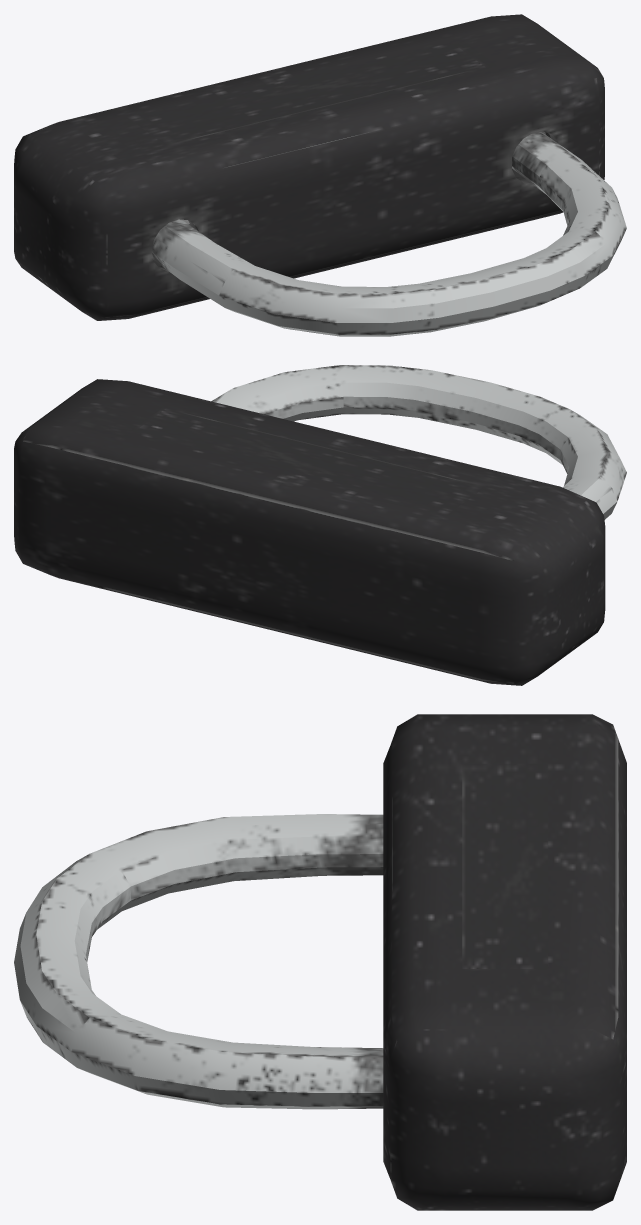
The model's file is WheelLock.fbx.
3 views of the same model, one above another, from view 1: azimuth 30°, elevation 25°; view 2: azimuth 150°, elevation 25°; view 3: azimuth 270°, elevation 25° (orthographic). The views are drawn at different scales.
Parts seen in each view (by area): view 1: Cube, Torus.001; view 2: Cube, Torus.001; view 3: Cube, Torus.001.
Part boxes in pixels (<box>): Cube: <box>14,14,604,320</box>; Torus.001: <box>151,132,626,336</box>; Cube: <box>14,379,605,685</box>; Torus.001: <box>211,365,626,519</box>; Cube: <box>383,714,626,1210</box>; Torus.001: <box>14,814,383,1109</box>.
Bounding box in the file's own units: 10.13 × 2.63 × 7.59.
